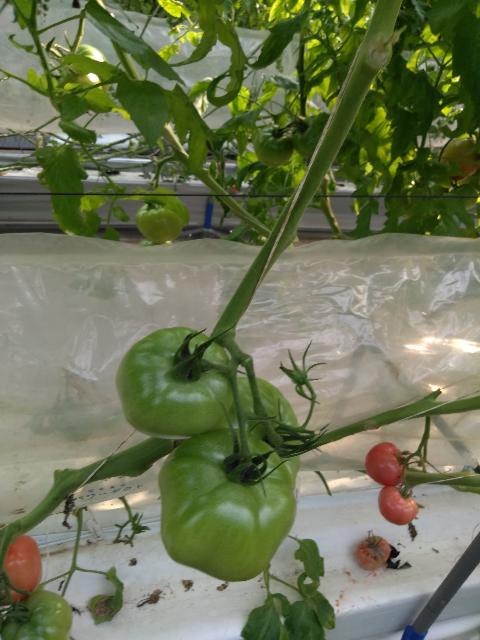b_fully_ripened: (365, 442, 406, 486), (378, 485, 419, 525)
b_green: (157, 428, 297, 582), (115, 327, 237, 439), (212, 376, 304, 488), (0, 589, 72, 640), (135, 202, 184, 244), (255, 124, 293, 168), (291, 115, 320, 160)
b_half_ripened: (0, 534, 43, 607)
